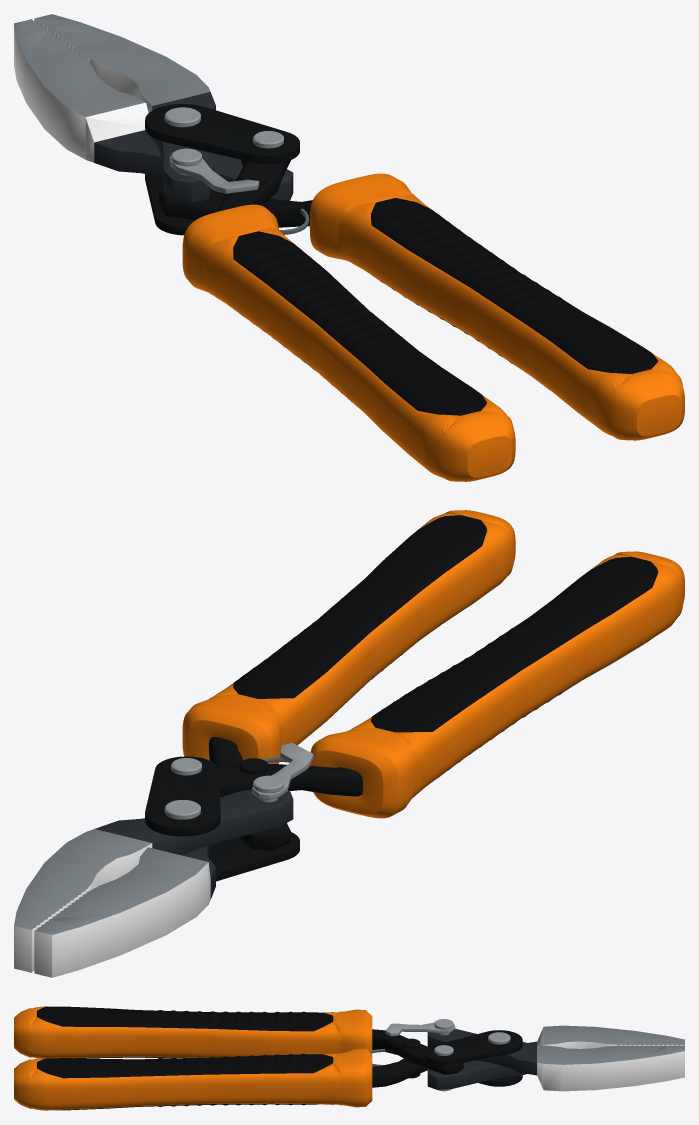
3 views of the same model, one above another, from view 1: azimuth 30°, elevation 25°; view 2: azimuth 150°, elevation 25°; view 3: azimuth 270°, elevation 25° (orthographic). The views are drawn at different scales.
Visible parts, largest first — view 1: part_005_Right_grip_surround, part_016_Left_grip_surround, part_006_Right_front_grip_insert, part_017_Left_front_grip_insert, part_002_Right_jaw_forging, part_013_Left_jaw_forging, part_014_Left_jaw_forging, part_019_Front_reinforcement_link, part_015_Left_jaw_forging, part_004_Right_jaw_forging, part_000_Right_steel_handle_lever, part_011_Left_steel_handle_lever (+3 smaller); view 2: part_016_Left_grip_surround, part_005_Right_grip_surround, part_017_Left_front_grip_insert, part_006_Right_front_grip_insert, part_014_Left_jaw_forging, part_002_Right_jaw_forging, part_013_Left_jaw_forging, part_004_Right_jaw_forging, part_019_Front_reinforcement_link, part_011_Left_steel_handle_lever, part_008_Rear_reinforcement_link, part_003_Right_jaw_forging (+2 smaller); view 3: part_005_Right_grip_surround, part_016_Left_grip_surround, part_017_Left_front_grip_insert, part_006_Right_front_grip_insert, part_003_Right_jaw_forging, part_002_Right_jaw_forging, part_013_Left_jaw_forging, part_019_Front_reinforcement_link, part_015_Left_jaw_forging, part_004_Right_jaw_forging, part_011_Left_steel_handle_lever, part_000_Right_steel_handle_lever (+8 smaller).
Part boxes in pixels (x1,y1,x2,y2): part_005_Right_grip_surround: (309, 173, 684, 440); part_016_Left_grip_surround: (182, 204, 515, 481); part_006_Right_front_grip_insert: (371, 198, 657, 373); part_017_Left_front_grip_insert: (233, 231, 486, 415); part_002_Right_jaw_forging: (35, 14, 210, 105); part_013_Left_jaw_forging: (14, 19, 145, 142); part_014_Left_jaw_forging: (14, 22, 148, 162); part_019_Front_reinforcement_link: (145, 104, 299, 163); part_015_Left_jaw_forging: (94, 130, 293, 200); part_004_Right_jaw_forging: (152, 92, 215, 202); part_000_Right_steel_handle_lever: (159, 190, 312, 227); part_011_Left_steel_handle_lever: (216, 159, 290, 211); part_016_Left_grip_surround: (310, 551, 684, 818); part_005_Right_grip_surround: (182, 510, 515, 764); part_017_Left_front_grip_insert: (371, 556, 657, 732); part_006_Right_front_grip_insert: (233, 515, 486, 698); part_014_Left_jaw_forging: (34, 862, 210, 977); part_002_Right_jaw_forging: (14, 829, 151, 929); part_013_Left_jaw_forging: (35, 847, 208, 934); part_004_Right_jaw_forging: (95, 789, 293, 855); part_019_Front_reinforcement_link: (145, 756, 220, 836); part_011_Left_steel_handle_lever: (218, 764, 362, 797); part_008_Rear_reinforcement_link: (208, 832, 299, 881); part_003_Right_jaw_forging: (14, 843, 152, 972); part_005_Right_grip_surround: (14, 1048, 372, 1110); part_016_Left_grip_surround: (14, 1006, 372, 1058); part_017_Left_front_grip_insert: (37, 1006, 332, 1031); part_006_Right_front_grip_insert: (37, 1053, 332, 1078); part_003_Right_jaw_forging: (537, 1051, 684, 1091); part_002_Right_jaw_forging: (537, 1045, 684, 1064); part_013_Left_jaw_forging: (537, 1025, 684, 1044); part_019_Front_reinforcement_link: (424, 1030, 522, 1065); part_015_Left_jaw_forging: (427, 1041, 536, 1089); part_004_Right_jaw_forging: (427, 1029, 536, 1075); part_011_Left_steel_handle_lever: (372, 1029, 463, 1074); part_000_Right_steel_handle_lever: (372, 1058, 427, 1087).
Bounding box in the file's own units: 0.055 × 0.0154 × 0.206.
